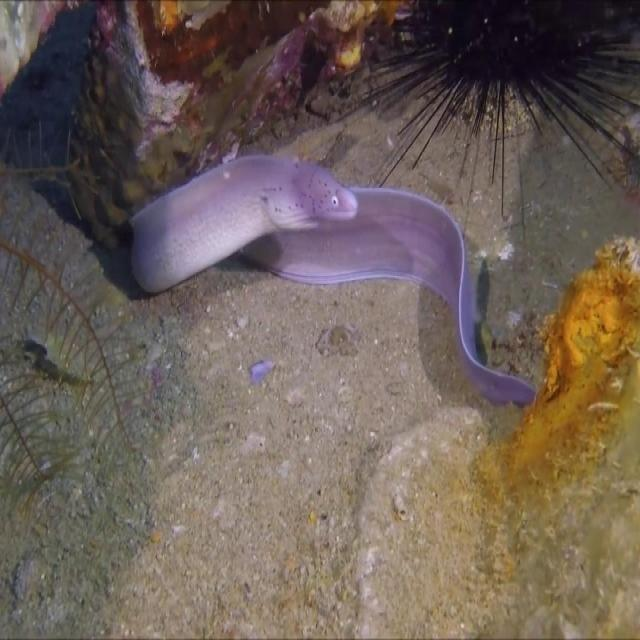aquatic plants: (0, 235, 168, 480), (0, 340, 82, 497), (0, 120, 101, 218)
fish: (129, 156, 537, 403)
reefs: (329, 1, 639, 216), (487, 236, 638, 489)
